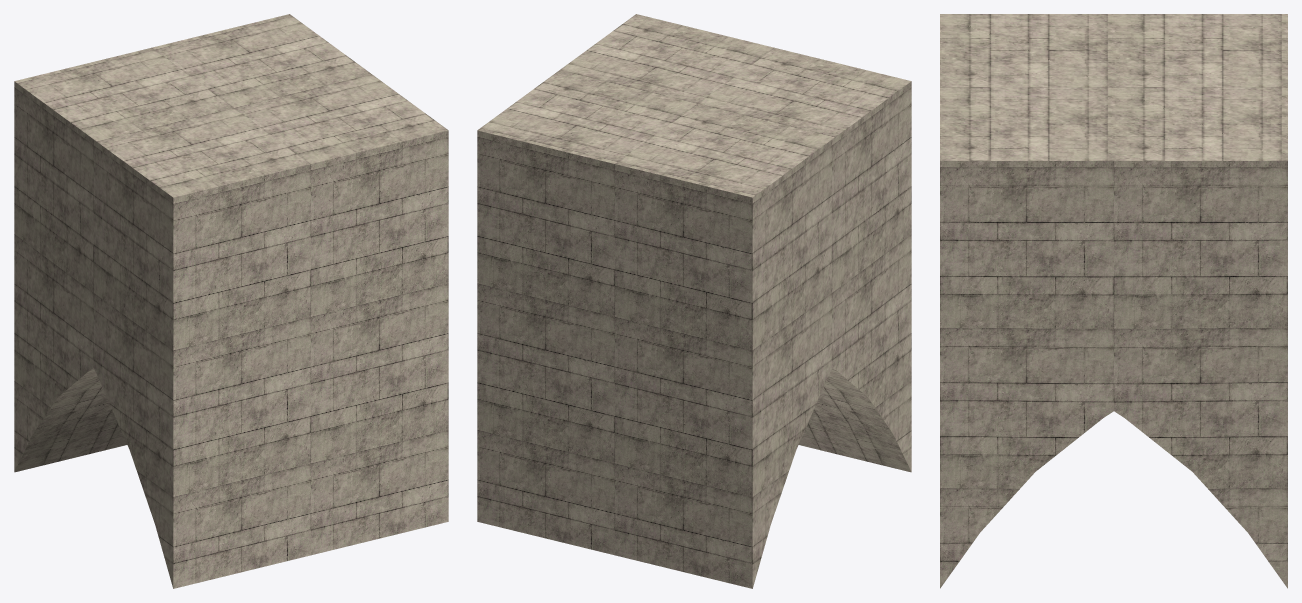
The model's file is AbutmentDoubleCenter.dae.
3 views of the same model, side by side, from view 1: azimuth 30°, elevation 25°; view 2: azimuth 150°, elevation 25°; view 3: azimuth 270°, elevation 25° (orthographic). The views are drawn at different scales.
Visible parts, largest first — view 1: AbutmentDoubleCenter; view 2: AbutmentDoubleCenter; view 3: AbutmentDoubleCenter.
Part boxes in pixels (x1=…): AbutmentDoubleCenter: x1=14, y1=14, x2=448, y2=588; AbutmentDoubleCenter: x1=477, y1=14, x2=911, y2=588; AbutmentDoubleCenter: x1=940, y1=14, x2=1287, y2=588.
Bounding box in the file's own units: 4 × 5.43 × 4.
Materials: 1 (1 with a texture image).
